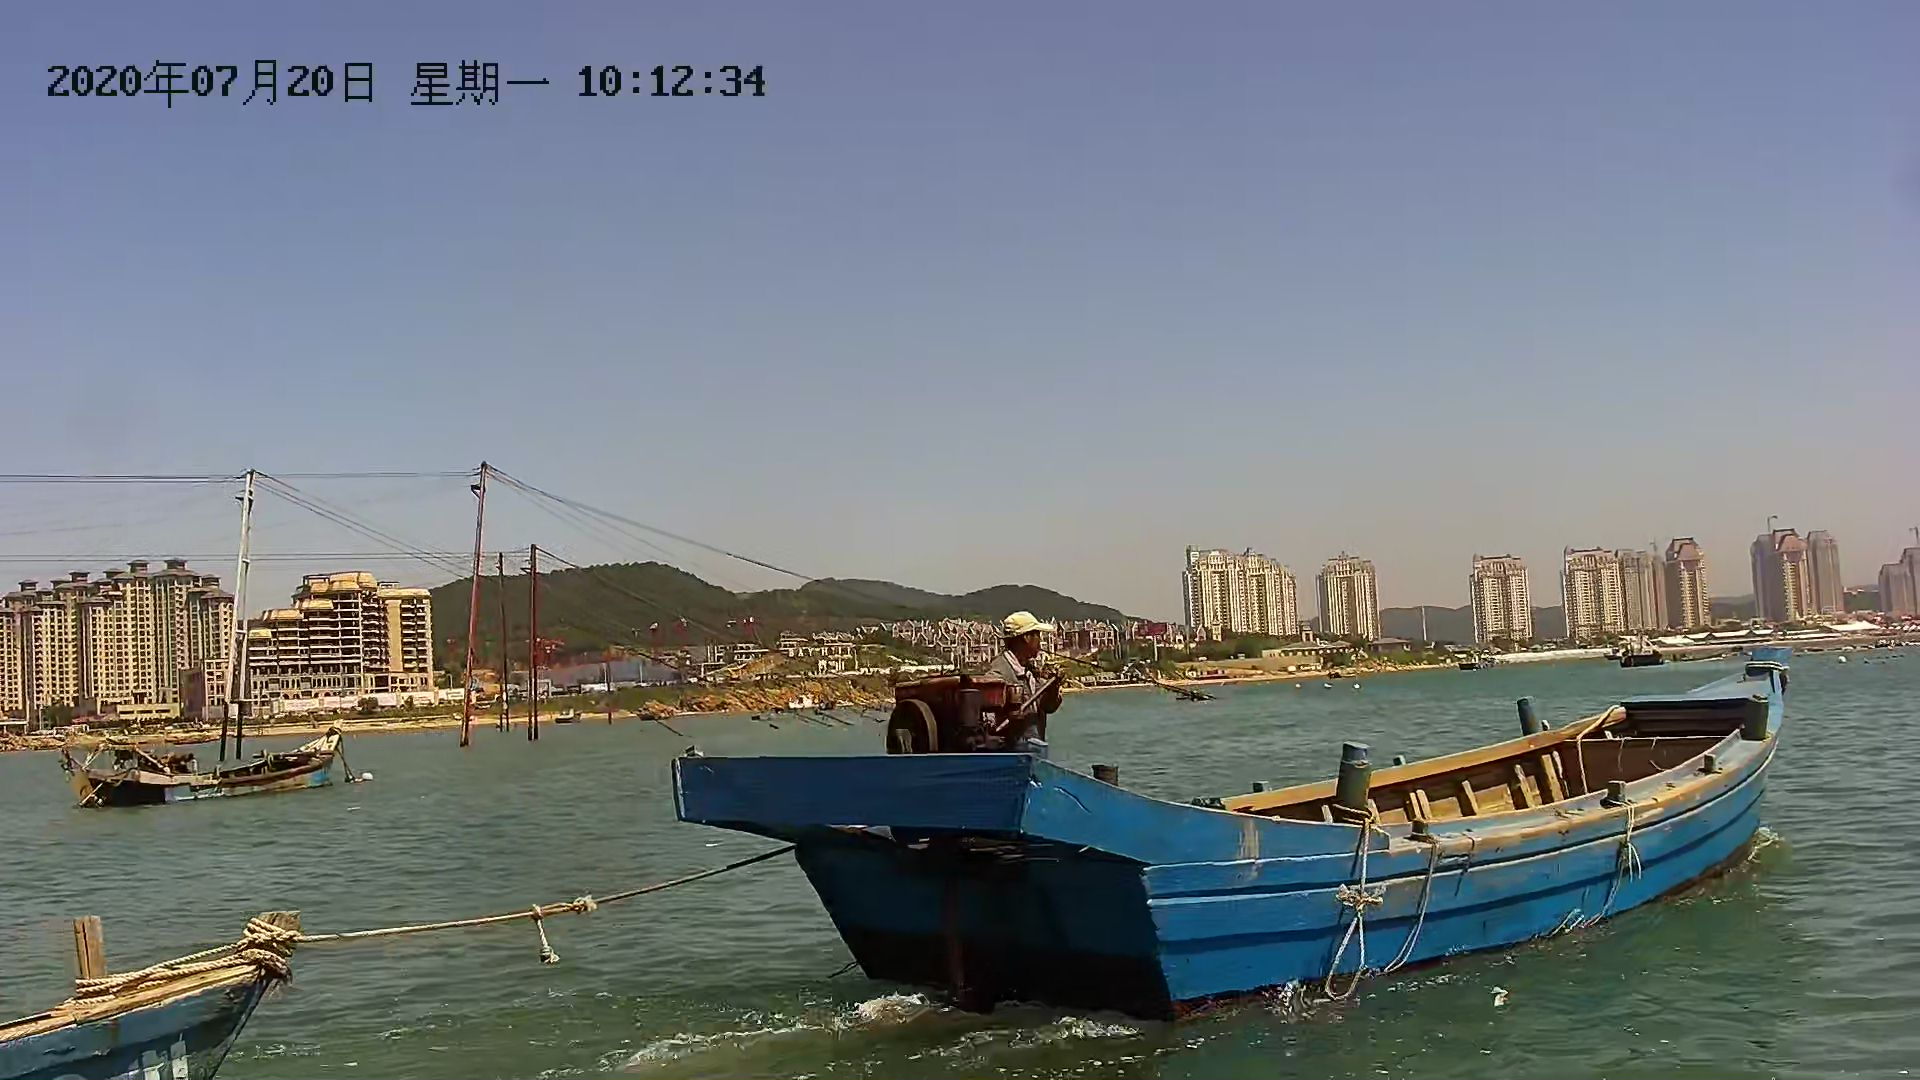boat: (673, 656, 1786, 1016), (74, 742, 347, 810)
mast: (215, 467, 261, 767), (457, 459, 481, 753), (524, 540, 550, 750), (491, 553, 515, 740)
person: (996, 607, 1059, 754)
